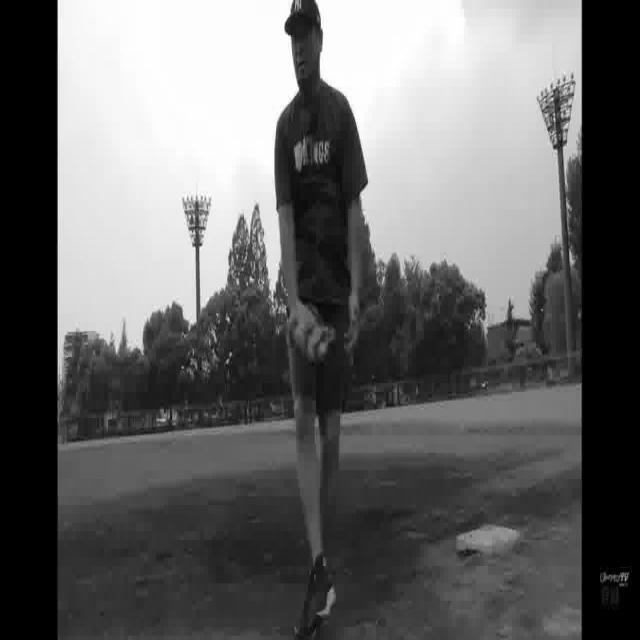base: (453, 524, 523, 554)
baseball_glove: (288, 301, 332, 371)
shoe: (298, 559, 338, 639)
